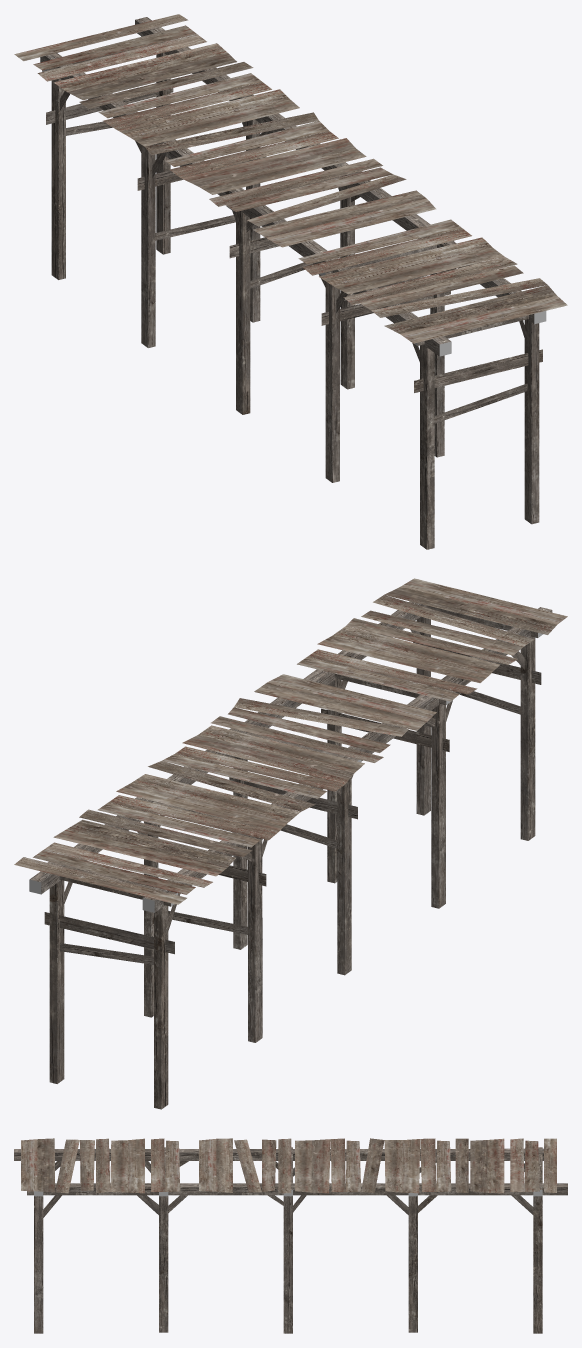
Rendered from Pier3_LOD2.fbx.
3 views of the same model, one above another, from view 1: azimuth 30°, elevation 25°; view 2: azimuth 150°, elevation 25°; view 3: azimuth 270°, elevation 25° (orthographic). The views are drawn at different scales.
Visible parts, largest first — view 1: polySurface1212; view 2: polySurface1212; view 3: polySurface1212.
Boxes of the visible parts, box(x1,y1,x2,y2) form: polySurface1212: box(14, 14, 567, 549); polySurface1212: box(14, 578, 567, 1109); polySurface1212: box(14, 1138, 567, 1333).
Bounding box in the file's own units: 2.88 × 3.64 × 12.23.
